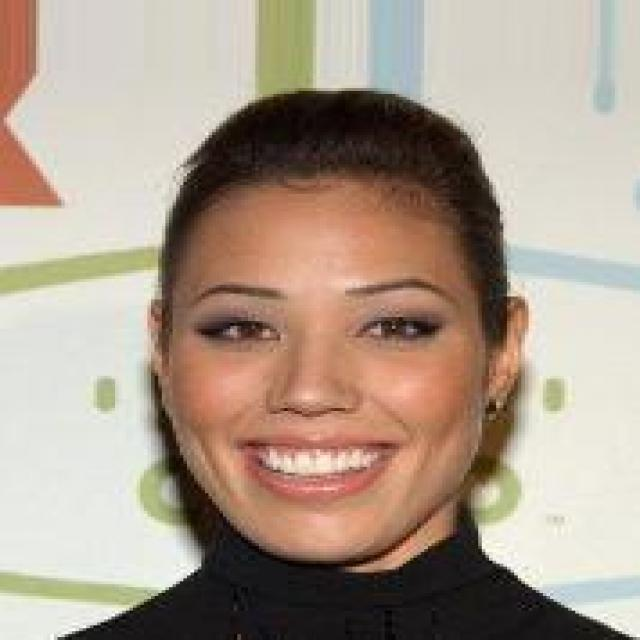nomask: (108, 91, 600, 567)
